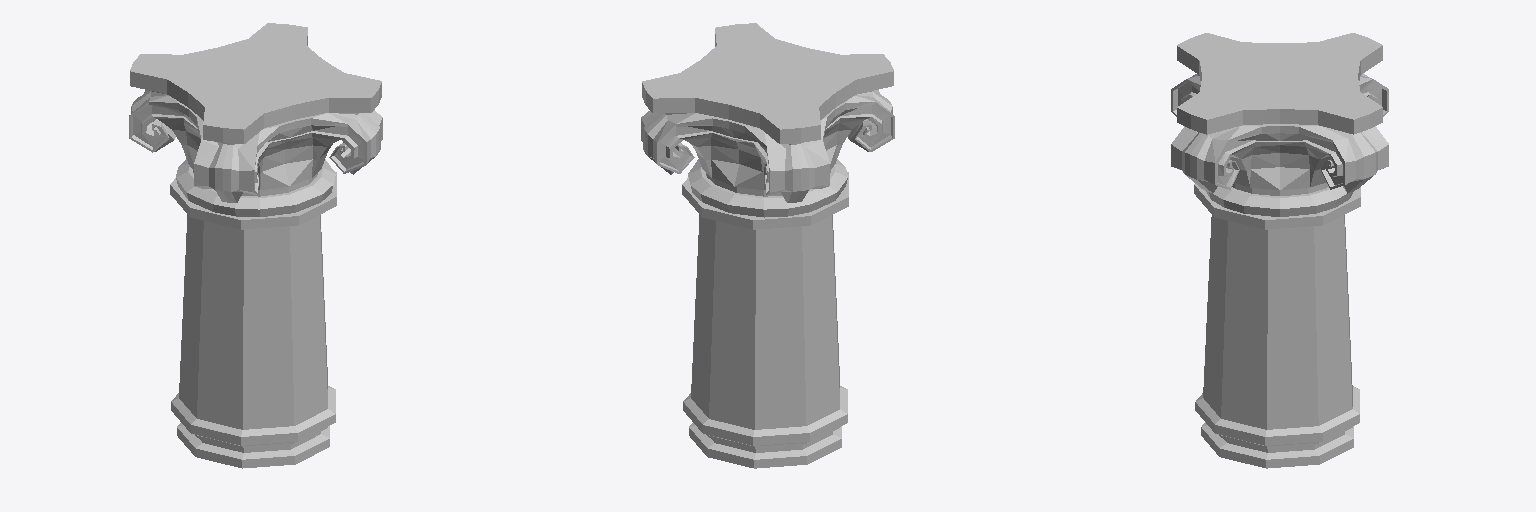
File: column1.obj
3 renders of one model, left to right at view 1: azimuth 30°, elevation 25°; view 2: azimuth 150°, elevation 25°; view 3: azimuth 270°, elevation 25°, orthographic.
Visible parts, largest first — view 1: column1_Column; view 2: column1_Column; view 3: column1_Column.
Boxes of the visible parts, box(x1,y1,x2,y2) form: column1_Column: box(129, 23, 382, 468); column1_Column: box(641, 23, 894, 468); column1_Column: box(1171, 33, 1388, 468).
Bounding box in the file's own units: 2.08 × 3.77 × 2.07.